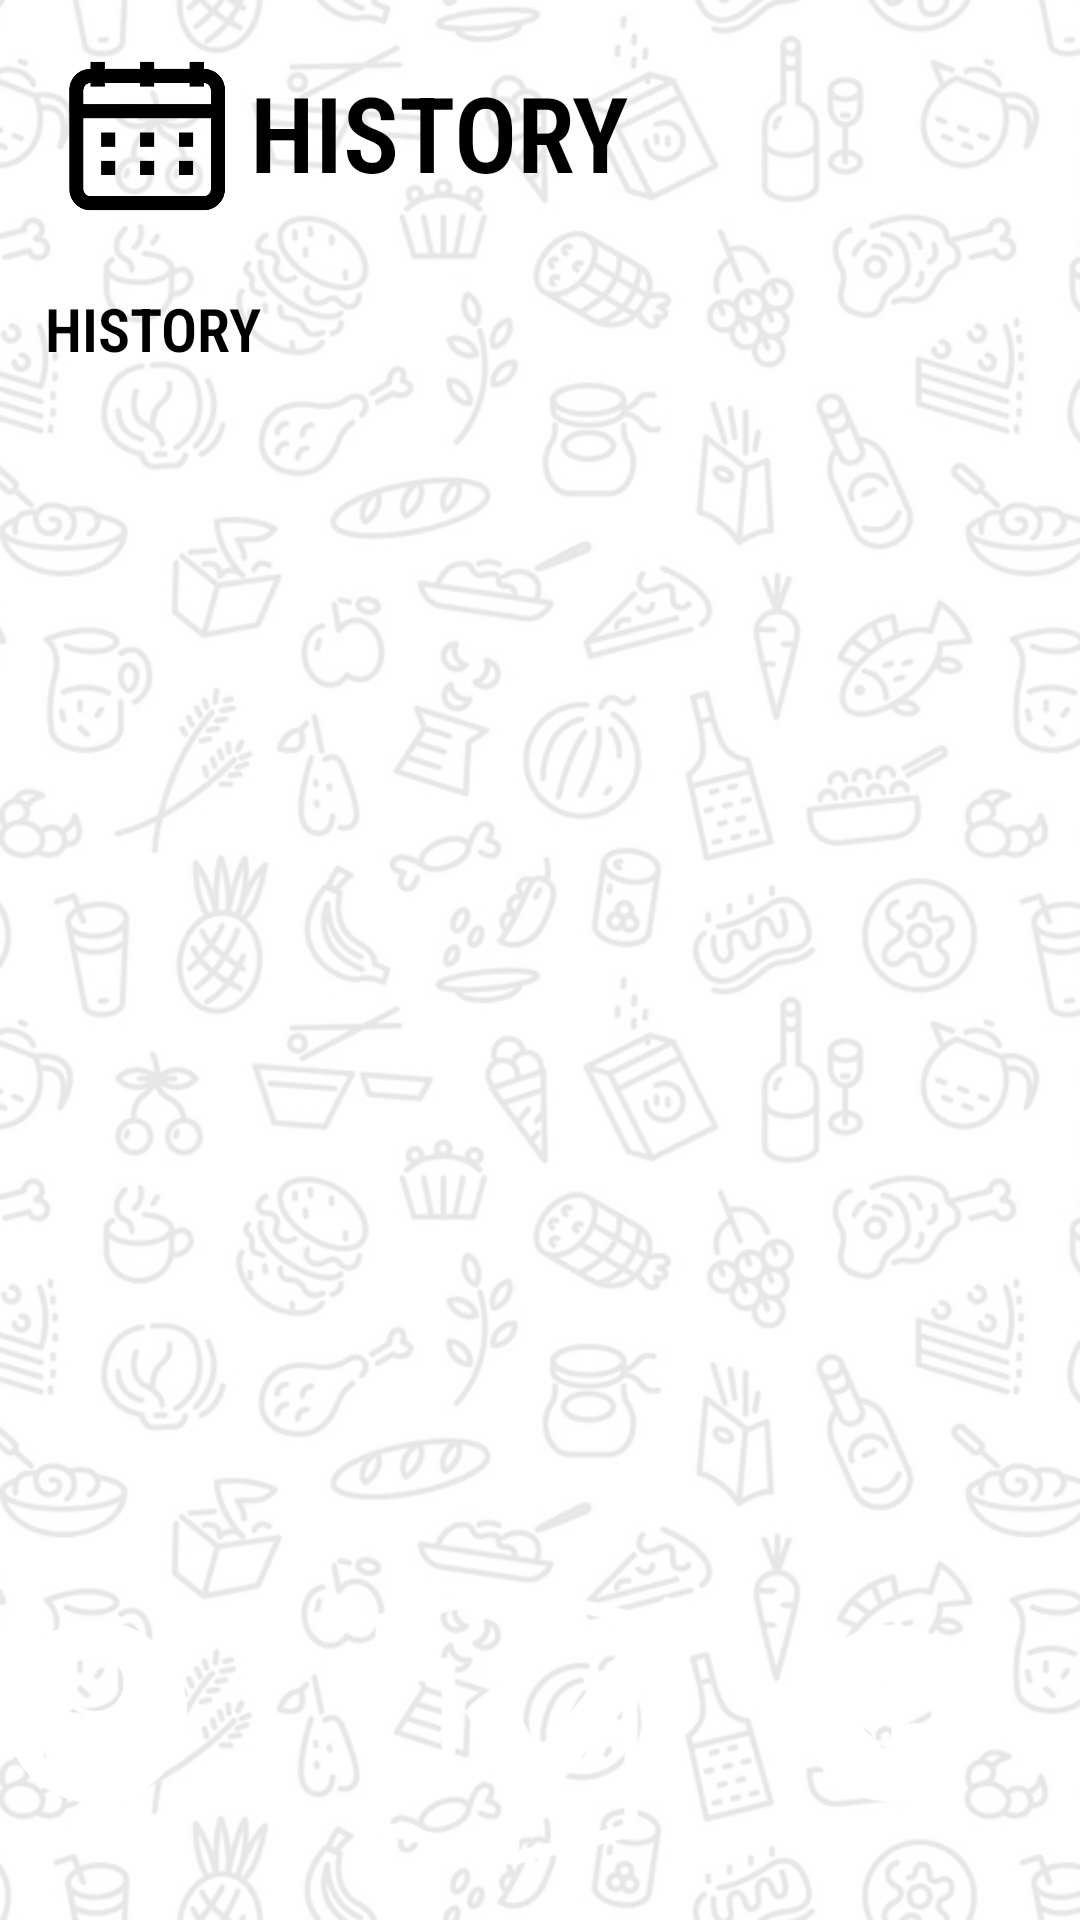

Locate icon controls on the screen. Image size 1080x1920, boxes as [x1, y1, x2, y2].
dateiconblack: [46, 48, 231, 210]
